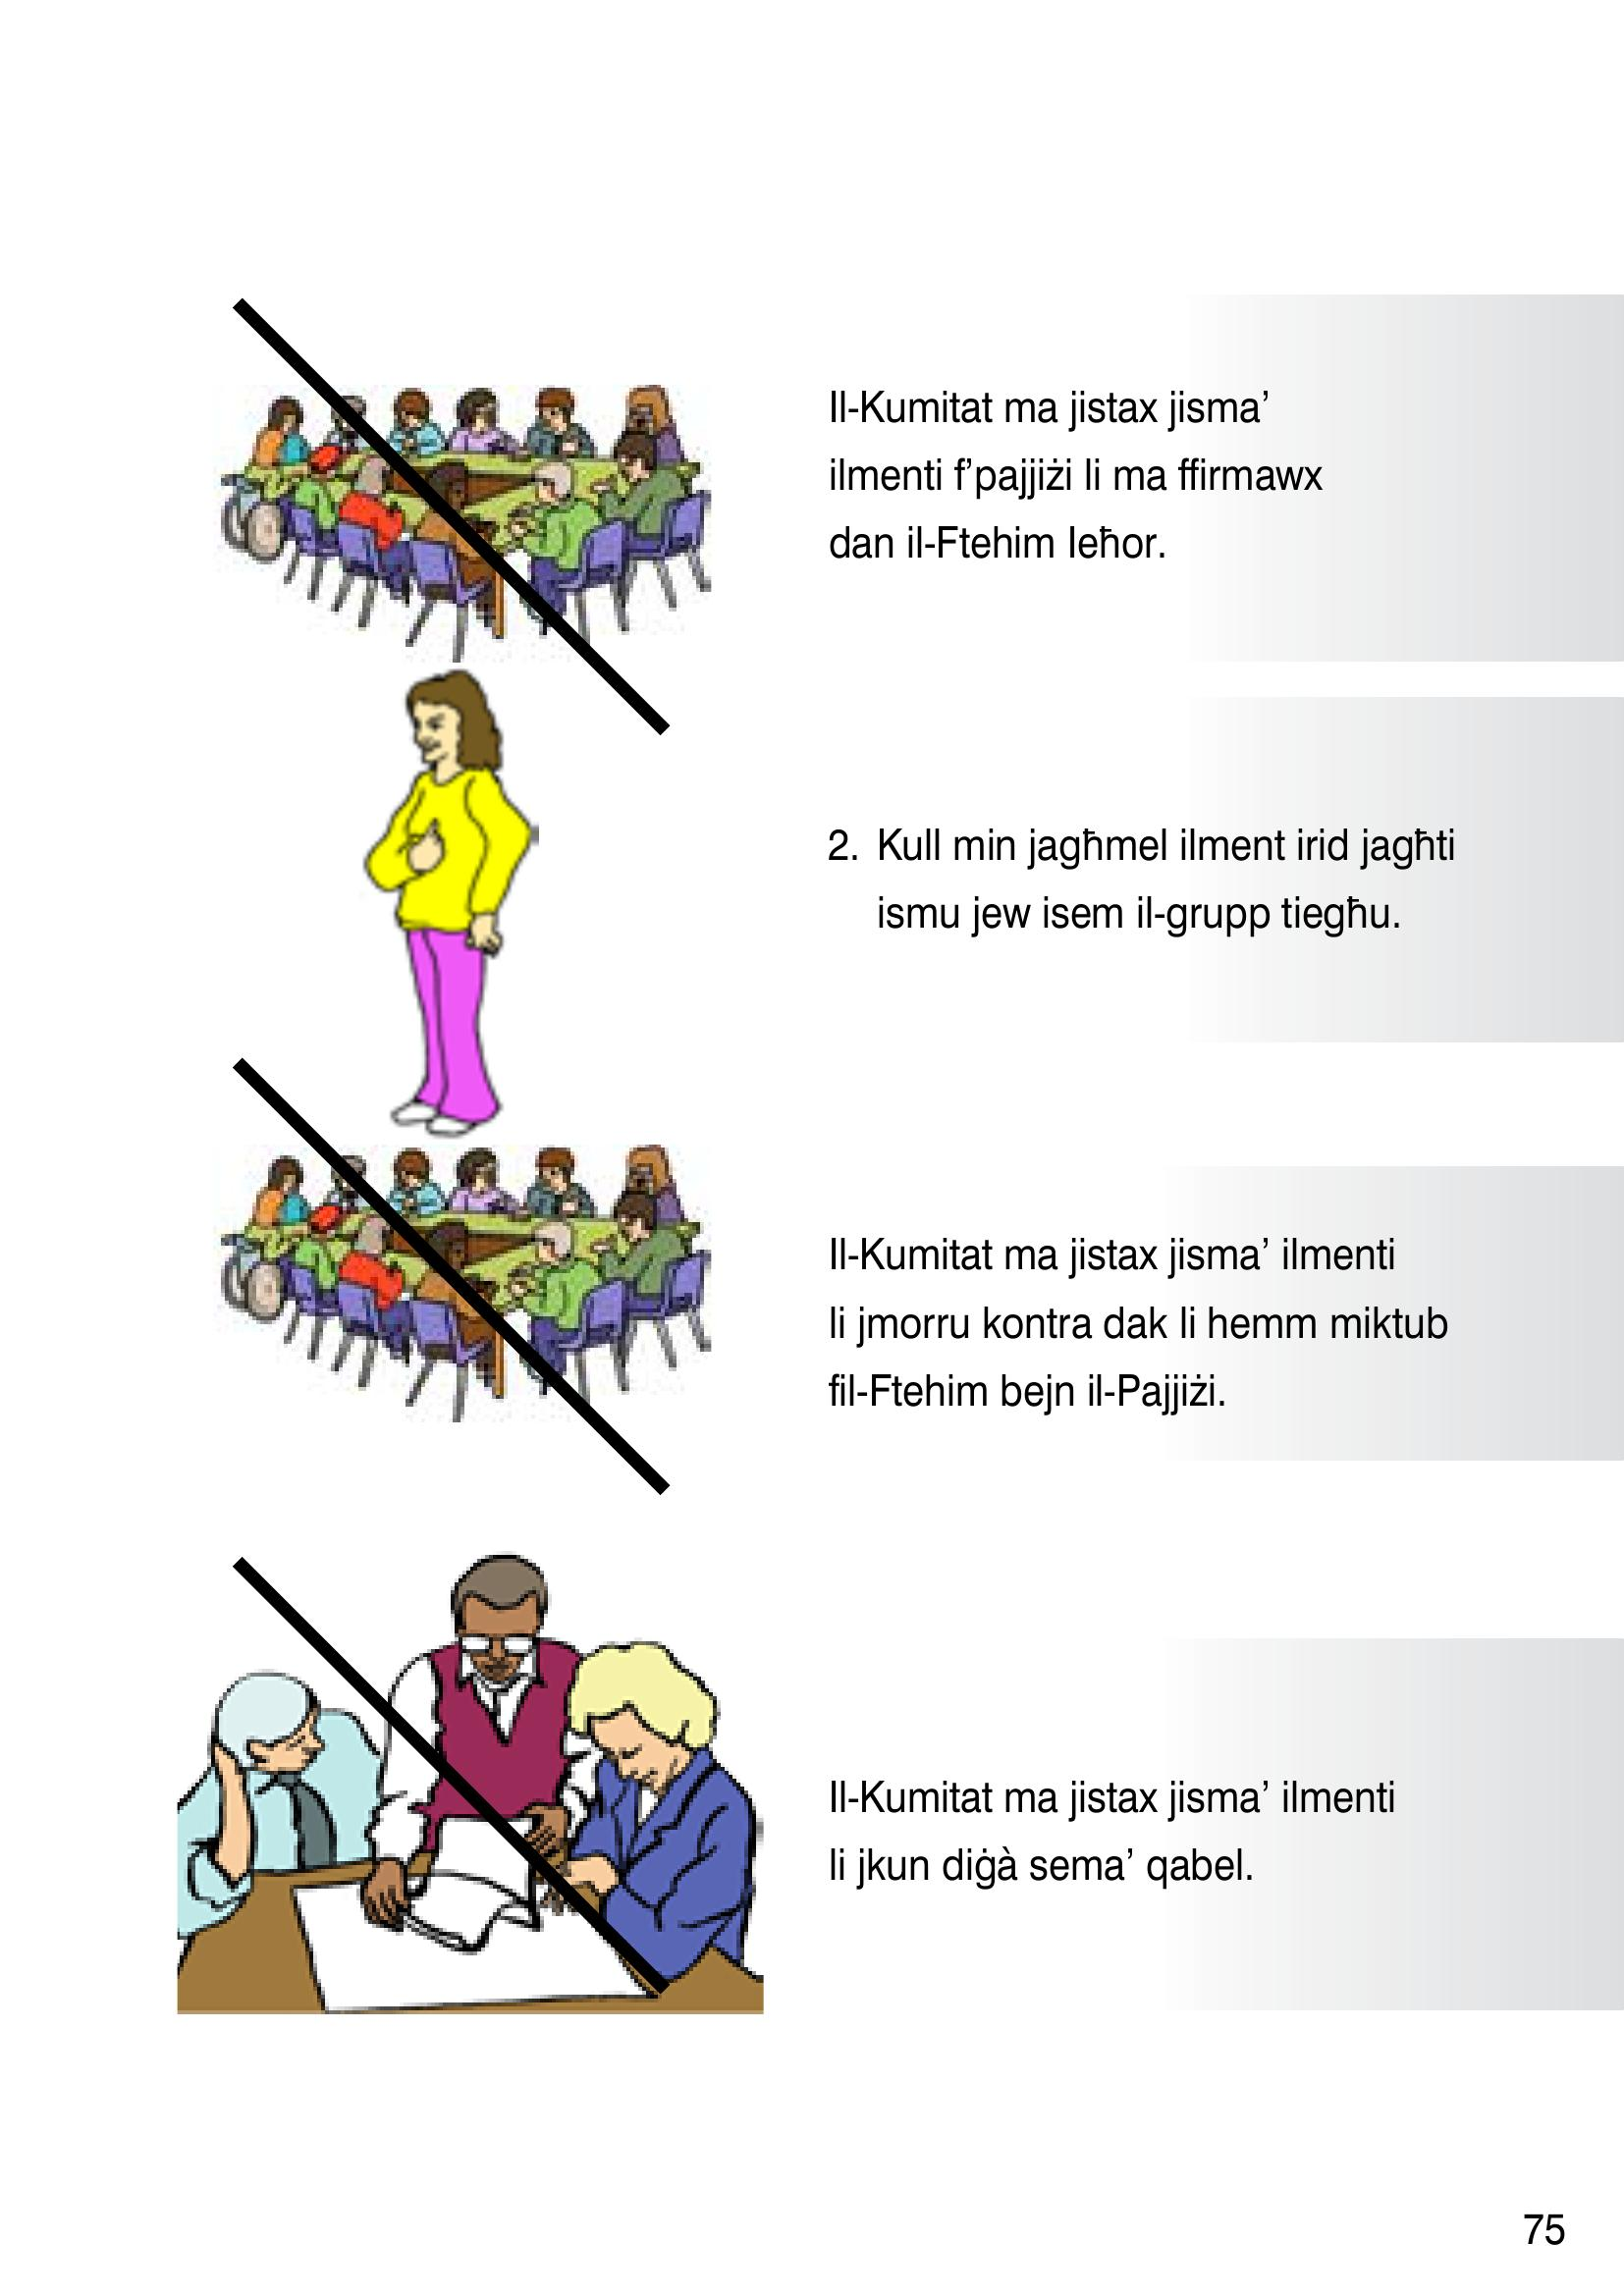text: (789, 353, 1496, 1964)
